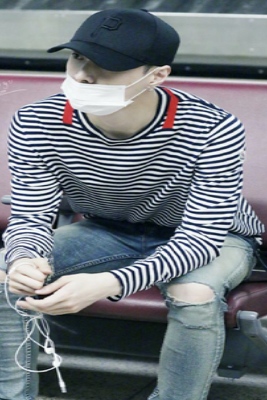mask_weared_incorrect: (65, 52, 143, 115)
